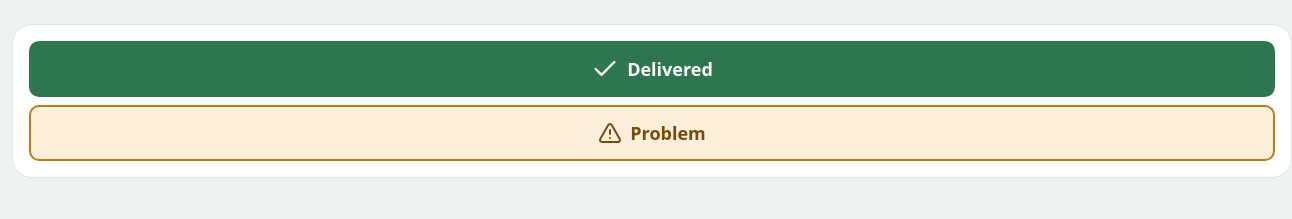
Test: StopStatusActions in en › does not navigate and says so when the phone cannot store the tap
This screenshot has width=1292, height=219.
Step 1. Click the button with test id "btn-delivered" → (652, 69), box [29, 41, 1275, 97]
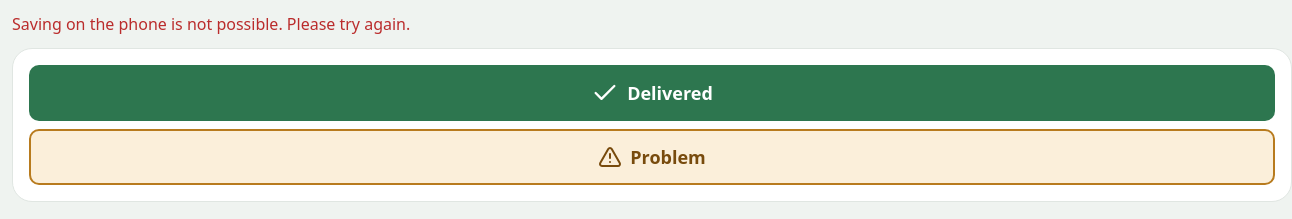
Now the message "Saving on the phone is not possible. Please try again." is shown, box [12, 13, 410, 35]
